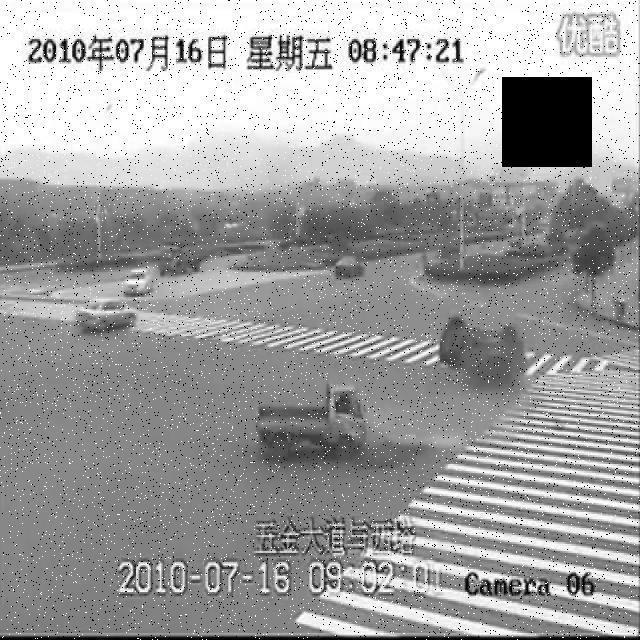accident: (435, 310, 530, 388)
vehicle: (258, 384, 370, 466), (72, 297, 141, 333), (121, 263, 149, 299), (329, 253, 365, 281)
